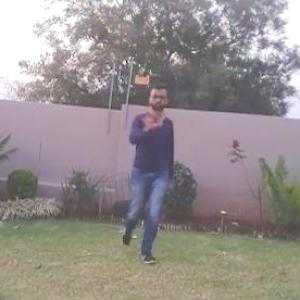follow_hand: (137, 107, 164, 134)
